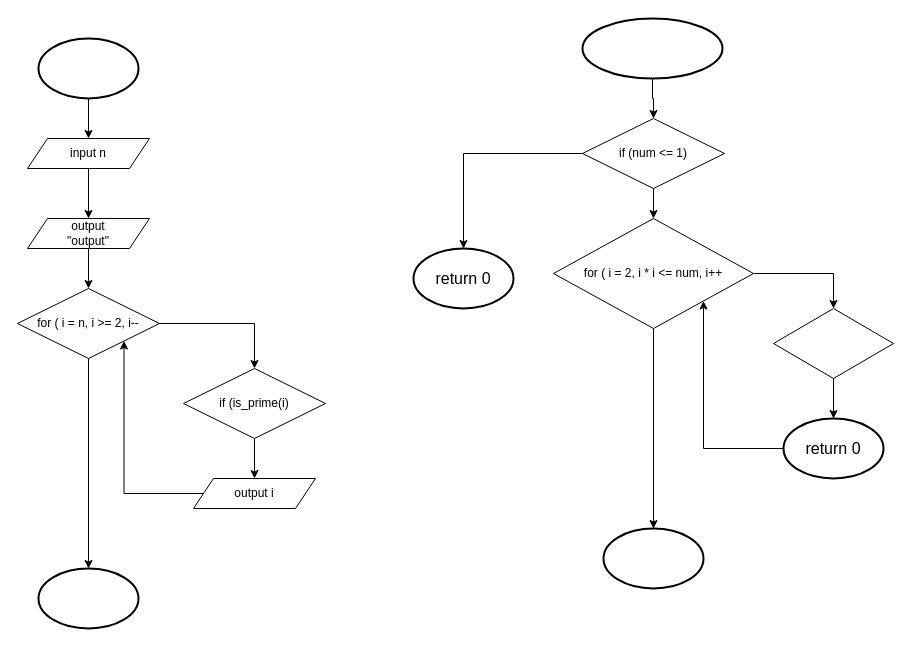
This 911x646 diagram has some shape labels left out. The shapes that lost their labels are listed below. From the top down, each one's centre as x and y in pixels, then its label:
(88,68): start
(652,48): is_prime(num)
(833,343): if (num % i == 0
(653,558): return 1
(88,598): end
